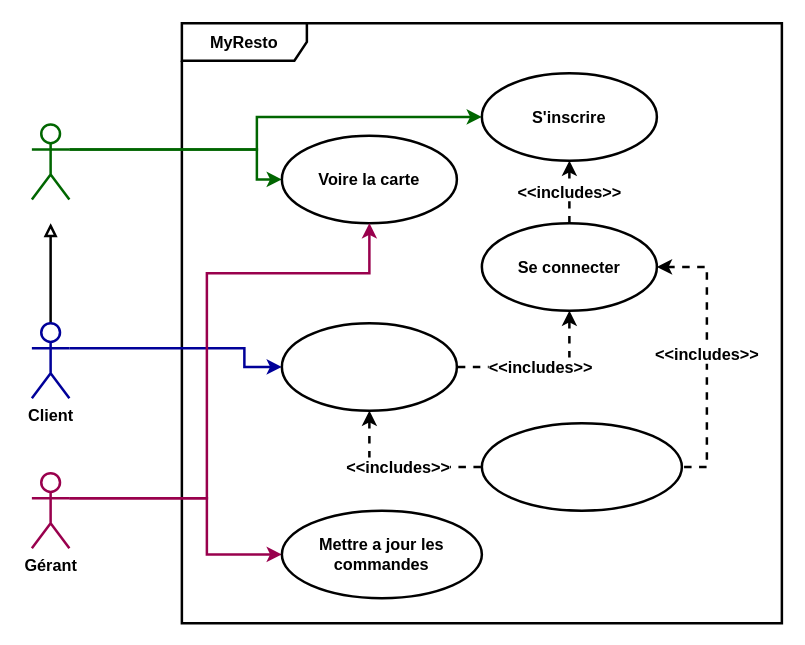
Image size: 805x645. Some labels were removed from this diagram. The shapes that lost their labels are listed below. From the top down, each one's centre as x and y in pixels, then its label:
At (50,161): "Visiteur".
At (369,366): "Commander en ligne".
At (581,466): "Visualiser sa commande".
